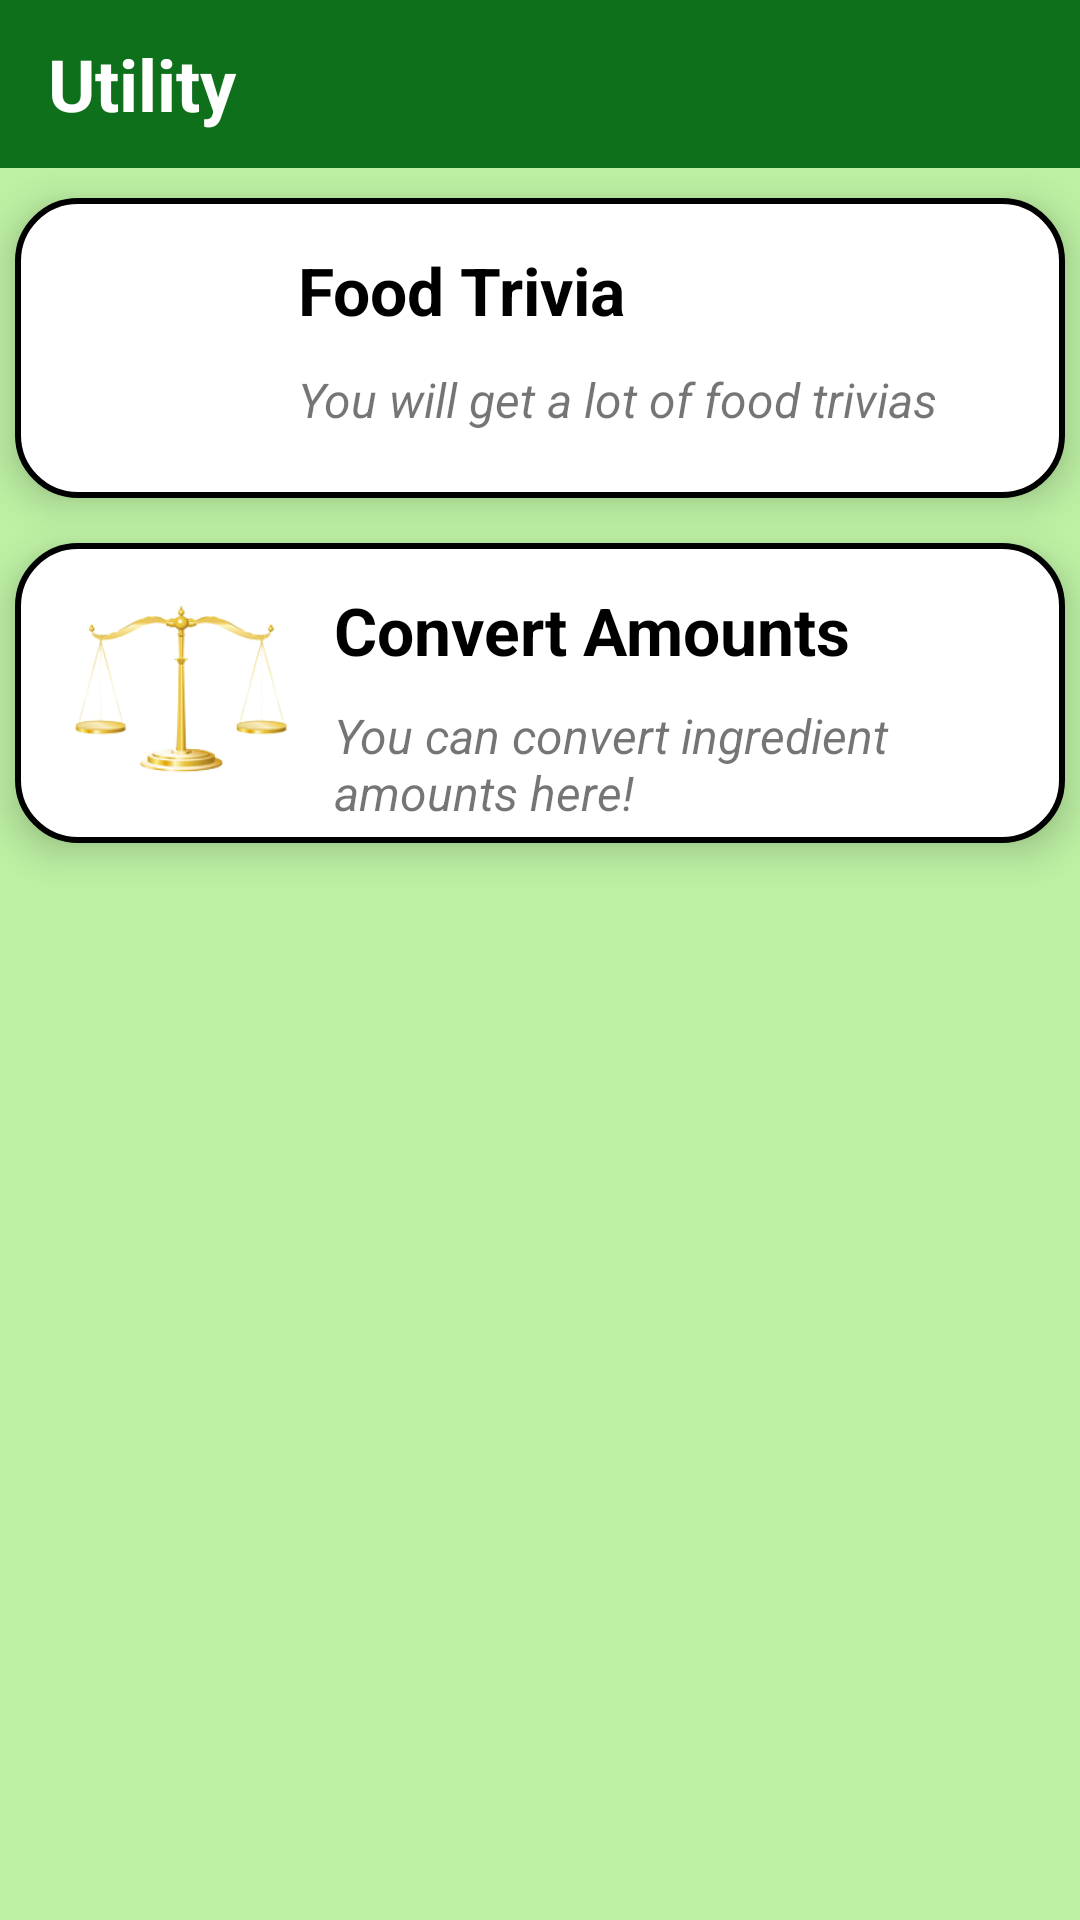

Icon click points for this 1080×1920 phone screenshot, format (x,y):
balance scale: (181,689)
